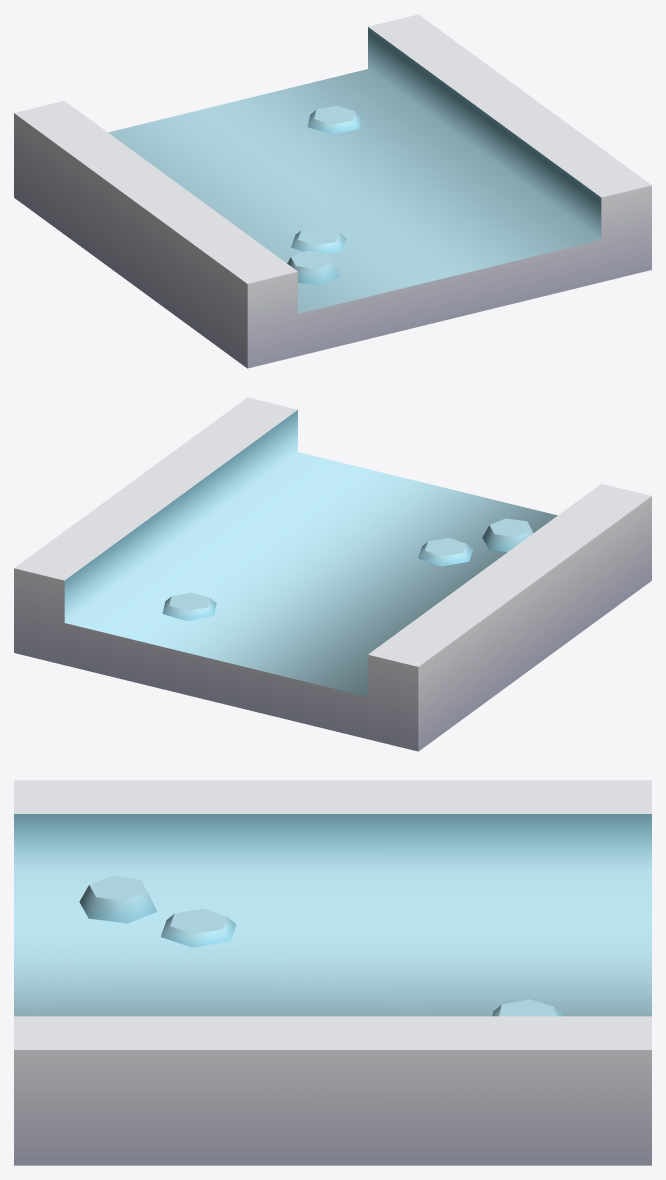
The model's file is snow-tile-straight.glb.
3 views of the same model, one above another, from view 1: azimuth 30°, elevation 25°; view 2: azimuth 150°, elevation 25°; view 3: azimuth 270°, elevation 25° (orthographic). The views are drawn at different scales.
Visible parts, largest first — view 1: snow-tile-straight; view 2: snow-tile-straight; view 3: snow-tile-straight.
Part boxes in pixels (box(x1,y1,x2,y2)): snow-tile-straight: box(14, 14, 651, 368); snow-tile-straight: box(14, 397, 651, 751); snow-tile-straight: box(14, 780, 651, 1165).
Size of the model in its own units: 1 by 0.2 by 1.
1 material, 1 textured.
